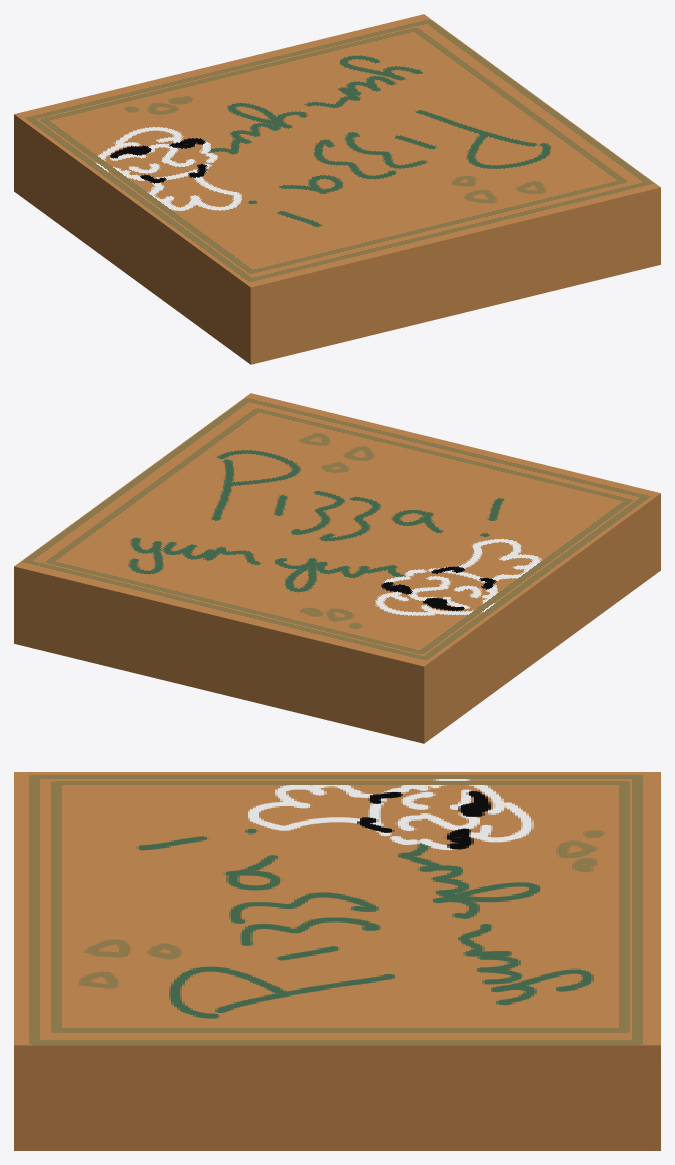
File: Pizza_Box.glb
3 renders of one model, top to bottom at view 1: azimuth 30°, elevation 25°; view 2: azimuth 150°, elevation 25°; view 3: azimuth 270°, elevation 25°, orthographic. The views are drawn at different scales.
Parts seen in each view (by area): view 1: Pizza_Box_Top, Pizza_Box_Bottom; view 2: Pizza_Box_Top, Pizza_Box_Bottom; view 3: Pizza_Box_Top, Pizza_Box_Bottom.
Part boxes in pixels (left/top/right/bottom): Pizza_Box_Top: left=14, top=14, right=660, bottom=325; Pizza_Box_Bottom: left=14, top=153, right=660, bottom=364; Pizza_Box_Top: left=14, top=393, right=660, bottom=704; Pizza_Box_Bottom: left=14, top=532, right=660, bottom=743; Pizza_Box_Top: left=14, top=772, right=660, bottom=1098; Pizza_Box_Bottom: left=14, top=1098, right=660, bottom=1150.
Size of the model in its own units: 1 by 0.18 by 1.
Materials: 1 (1 with a texture image).
